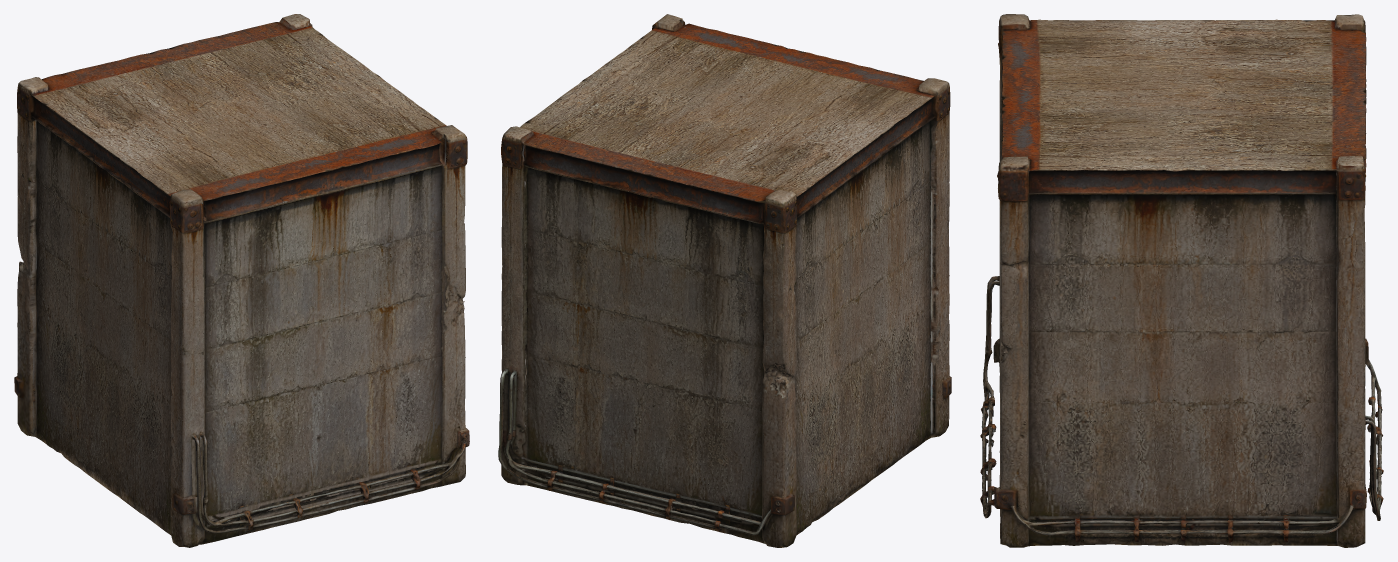
Rendered from BK_Wall.fbx.
3 renders of one model, left to right at view 1: azimuth 30°, elevation 25°; view 2: azimuth 150°, elevation 25°; view 3: azimuth 270°, elevation 25°, orthographic. The views are drawn at different scales.
Visible parts, largest first — view 1: texture_mapping; view 2: texture_mapping; view 3: texture_mapping.
Part boxes in pixels (left/top/right/bottom): texture_mapping: left=14, top=14, right=469, bottom=547; texture_mapping: left=498, top=14, right=951, bottom=547; texture_mapping: left=980, top=14, right=1383, bottom=547.
Bounding box in the file's own units: 0.8969 × 0.9503 × 0.9984.
Materials: 1 (1 with a texture image).
